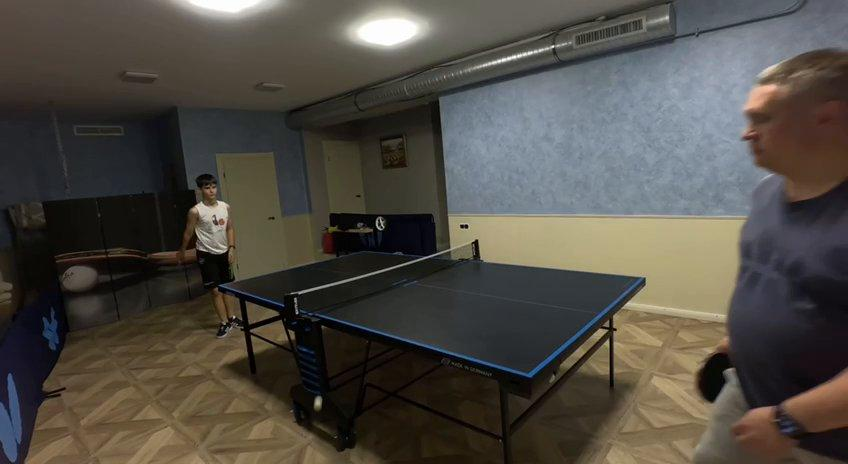Ball: (311, 395, 323, 413)
Net: (283, 240, 481, 321)
Player1: (183, 174, 234, 288)
Player2: (694, 50, 847, 463)
Table: (222, 253, 640, 377)
